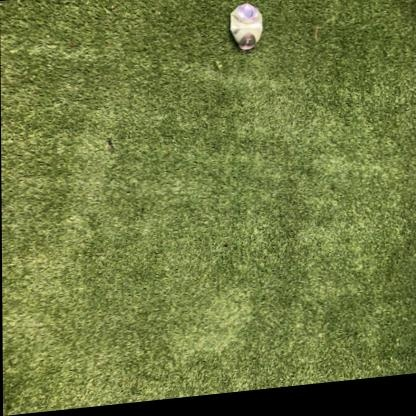trash: (230, 3, 262, 49)
